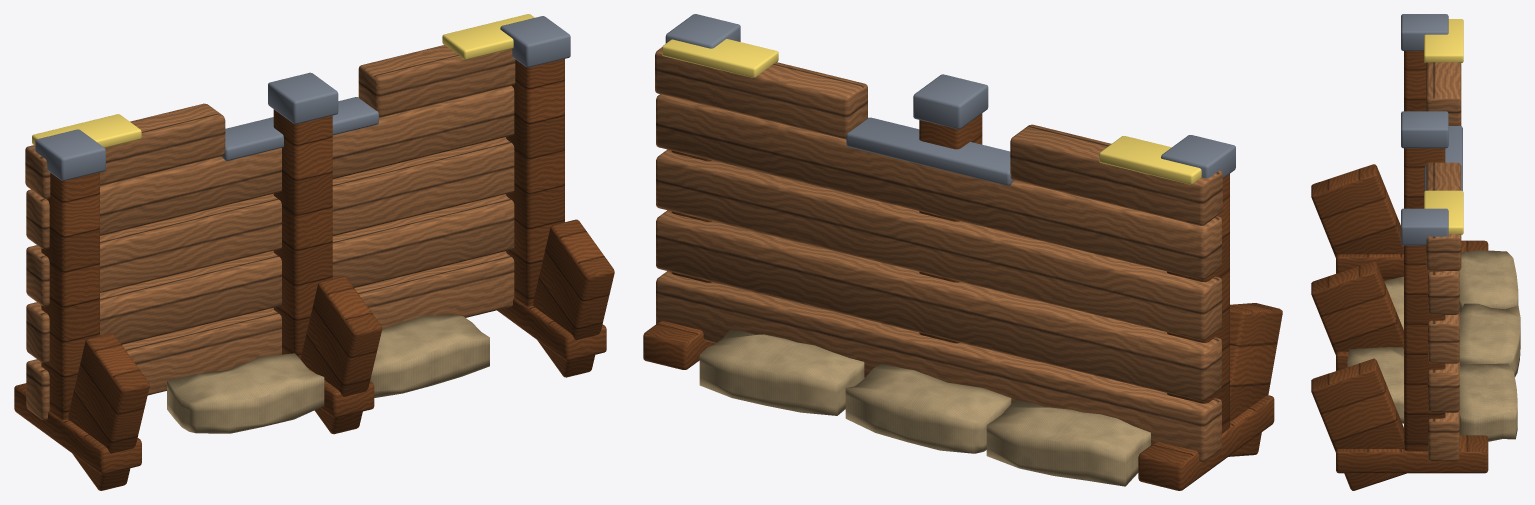
The model's file is barricade_wood.glb.
3 renders of one model, left to right at view 1: azimuth 30°, elevation 25°; view 2: azimuth 150°, elevation 25°; view 3: azimuth 270°, elevation 25°, orthographic. The views are drawn at different scales.
Visible parts, largest first — view 1: Plank_2, Plank_1, Plank_3, Plank_0, Post_0.00, Post_-1.45, Post_1.45, BaseBag_3, Gusset_1.45, Gusset_-1.45, TopPlank_1.0, Gusset_0.00 (+11 smaller); view 2: Plank_2, Plank_1, Plank_3, Plank_0, TopPlank_-1.0, TopPlank_1.0, BaseBag_0, BaseBag_2, BaseBag_1, NotchSill, Gusset_-1.45, Foot_-1.45 (+8 smaller); view 3: Gusset_1.45, Gusset_-1.45, Gusset_0.00, Post_1.45, BaseBag_2, Foot_1.45, BaseBag_1, BaseBag_0, TopPlank_1.0, TopPlank_-1.0, SteelCap_0.00, BaseBag_4 (+13 smaller).
Part boxes in pixels (x1,y1,x2,y2): Plank_2: (26, 137, 514, 306); Plank_1: (26, 194, 514, 363); Plank_3: (26, 85, 514, 249); Plank_0: (26, 251, 514, 420); Post_0.00: (273, 109, 332, 359); Post_-1.45: (41, 172, 99, 419); Post_1.45: (506, 59, 564, 306); BaseBag_3: (167, 353, 324, 433); Gusset_1.45: (533, 219, 614, 377); Gusset_-1.45: (68, 333, 149, 490); TopPlank_1.0: (358, 45, 515, 117); Gusset_0.00: (301, 276, 382, 434); Plank_2: (656, 149, 1221, 340); Plank_1: (656, 210, 1221, 401); Plank_3: (656, 94, 1221, 279); Plank_0: (656, 271, 1221, 461); TopPlank_-1.0: (1010, 124, 1222, 225); TopPlank_1.0: (655, 47, 867, 139); BaseBag_0: (986, 399, 1150, 486); BaseBag_2: (699, 330, 864, 415); BaseBag_1: (845, 364, 1011, 453); NotchSill: (846, 117, 1014, 185); Gusset_-1.45: (1228, 303, 1282, 456); Foot_-1.45: (1138, 395, 1274, 490); Gusset_1.45: (1311, 358, 1406, 490); Gusset_-1.45: (1311, 164, 1403, 280); Gusset_0.00: (1311, 261, 1403, 354); Post_1.45: (1404, 245, 1445, 451); BaseBag_2: (1459, 363, 1517, 441); Foot_1.45: (1336, 435, 1488, 473); BaseBag_1: (1459, 303, 1520, 376); BaseBag_0: (1459, 250, 1518, 313); TopPlank_1.0: (1426, 162, 1461, 270); TopPlank_-1.0: (1426, 62, 1461, 125); SteelCap_0.00: (1401, 111, 1448, 148); BaseBag_4: (1347, 347, 1403, 423).
Bounding box in the file's own units: 3.22 × 1.87 × 1.32.
5 materials, 3 textured.
